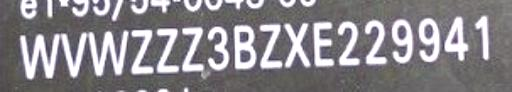letter: (11, 26, 65, 87), (86, 26, 130, 79), (124, 24, 158, 82), (280, 20, 318, 70), (56, 29, 94, 78), (440, 13, 476, 64), (414, 14, 446, 70), (252, 18, 286, 70), (387, 16, 419, 69), (202, 21, 232, 77), (153, 21, 183, 75), (361, 16, 389, 70), (310, 18, 338, 72), (230, 20, 258, 74), (179, 21, 207, 75), (334, 16, 362, 69), (470, 13, 498, 64)
